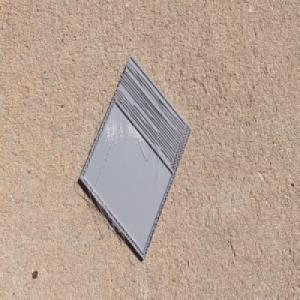PlasticPart: (77, 52, 193, 263)
